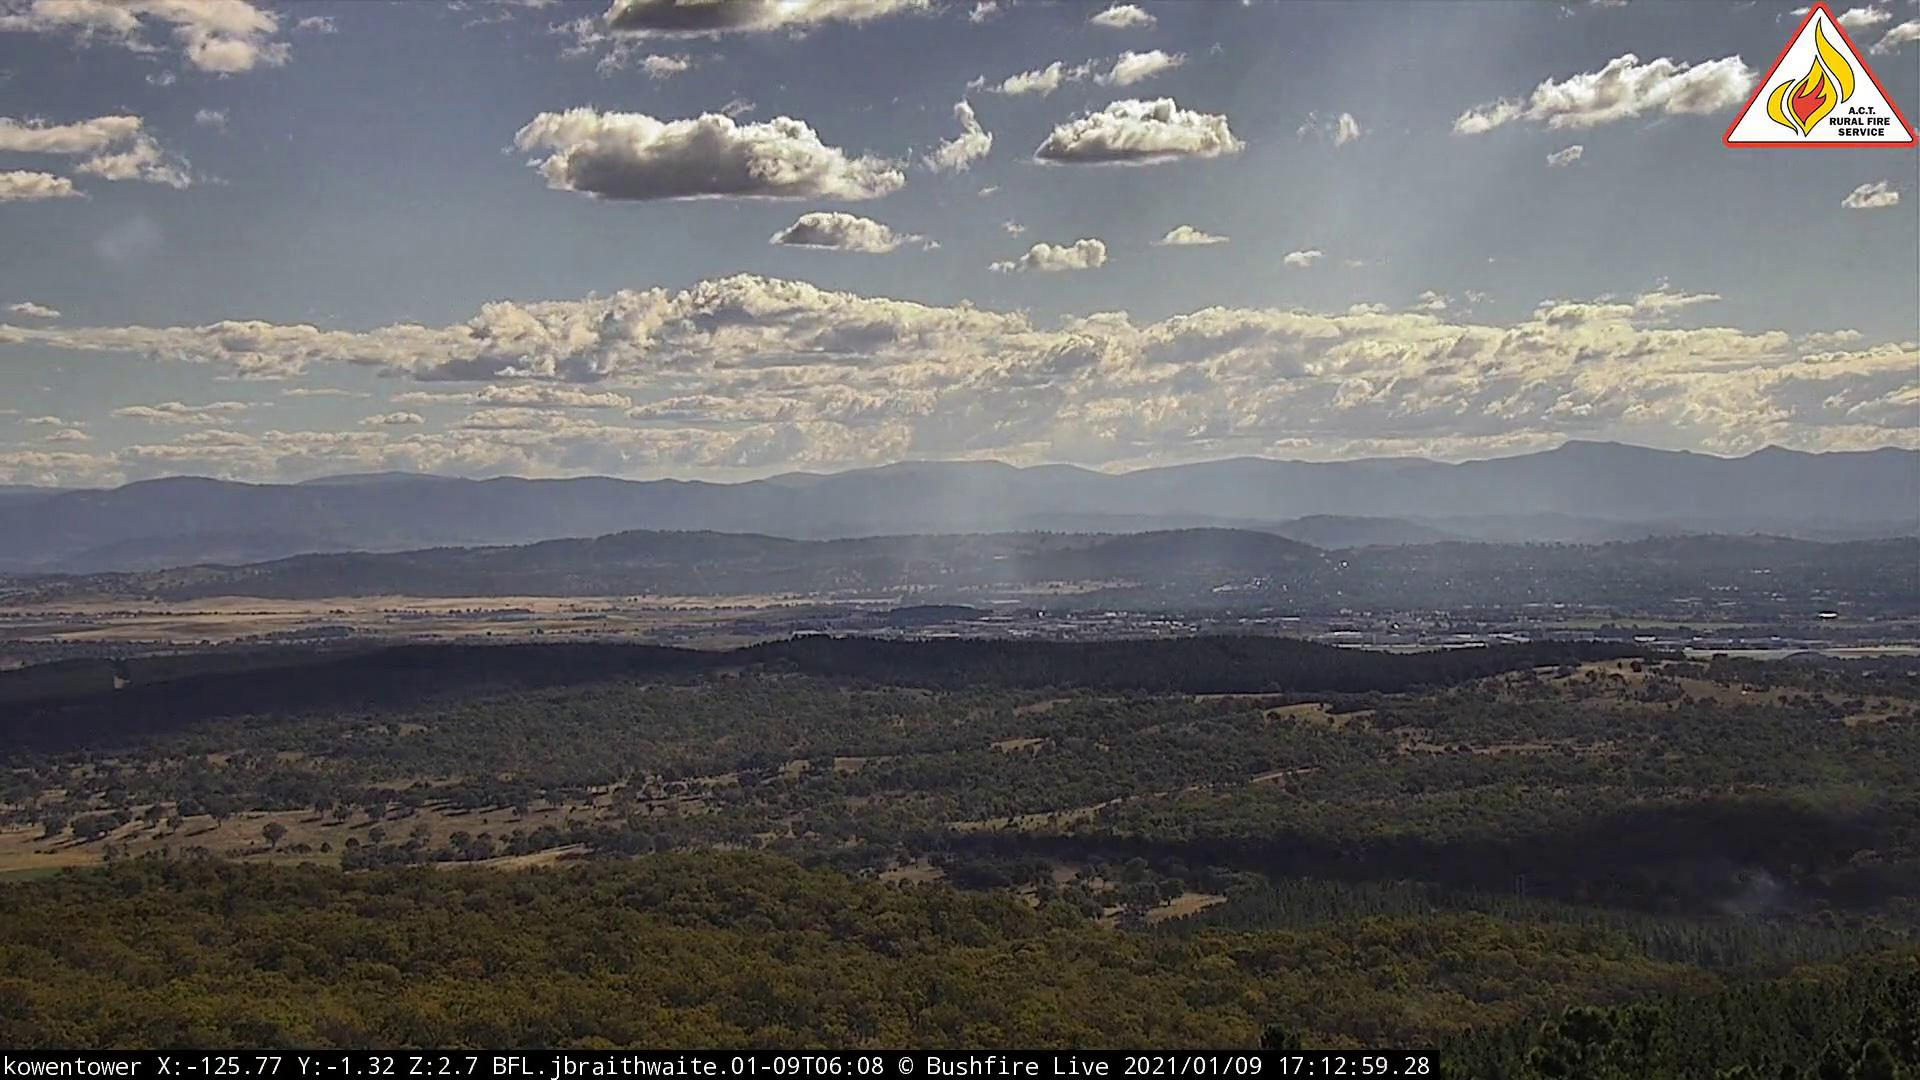instance_salient_object: (887, 524, 1039, 605)
